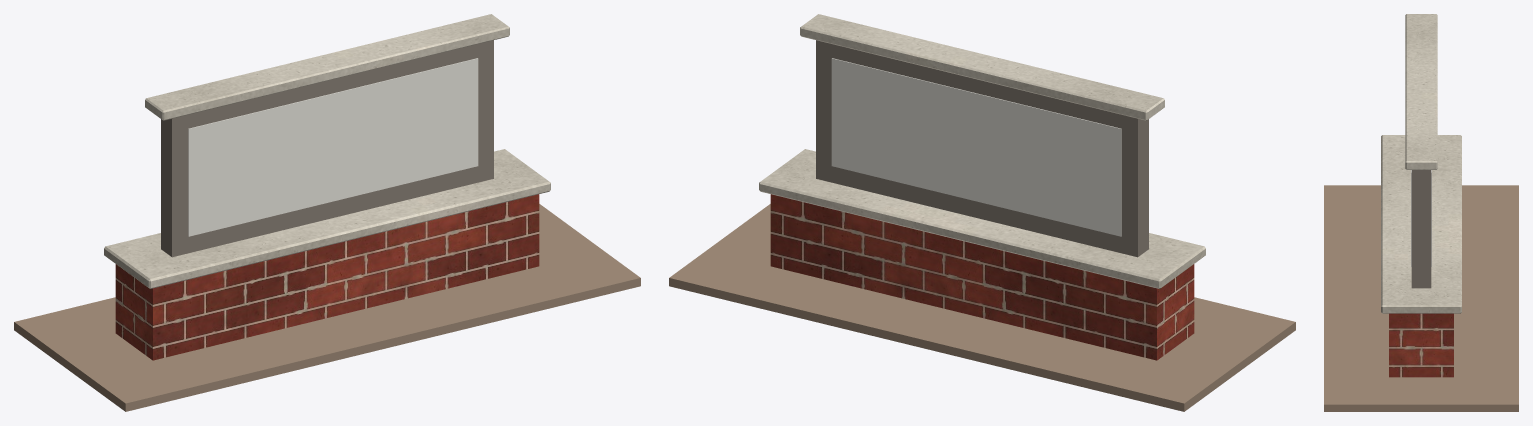
File: sign.glb
3 renders of one model, left to right at view 1: azimuth 30°, elevation 25°; view 2: azimuth 150°, elevation 25°; view 3: azimuth 270°, elevation 25°, orthographic. The views are drawn at different scales.
Visible parts, largest first — view 1: sign_mulch, sign_stripe, sign_brick, sign_precast, sign_alu; view 2: sign_mulch, sign_stripe, sign_brick, sign_precast, sign_alu; view 3: sign_mulch, sign_precast, sign_brick, sign_alu, sign_stripe.
Part boxes in pixels (left/top/right/bottom): sign_mulch: left=14, top=204, right=640, bottom=411; sign_stripe: left=188, top=58, right=478, bottom=236; sign_brick: left=115, top=194, right=539, bottom=360; sign_precast: left=104, top=14, right=550, bottom=288; sign_alu: left=161, top=40, right=493, bottom=257; sign_mulch: left=669, top=204, right=1295, bottom=411; sign_stripe: left=831, top=58, right=1121, bottom=236; sign_brick: left=770, top=194, right=1194, bottom=360; sign_precast: left=759, top=14, right=1205, bottom=288; sign_alu: left=816, top=40, right=1148, bottom=257; sign_mulch: left=1324, top=185, right=1518, bottom=411; sign_precast: left=1381, top=14, right=1461, bottom=313; sign_brick: left=1389, top=313, right=1453, bottom=377; sign_alu: left=1411, top=170, right=1431, bottom=288; sign_stripe: left=1411, top=170, right=1431, bottom=266.
Size of the model in its own units: 3.2 by 1.46 by 1.2.
5 materials, 2 textured.
